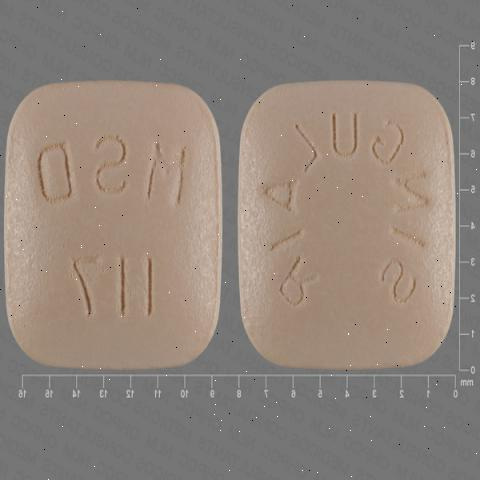Pill: (228, 70, 471, 383), (0, 74, 228, 376)
